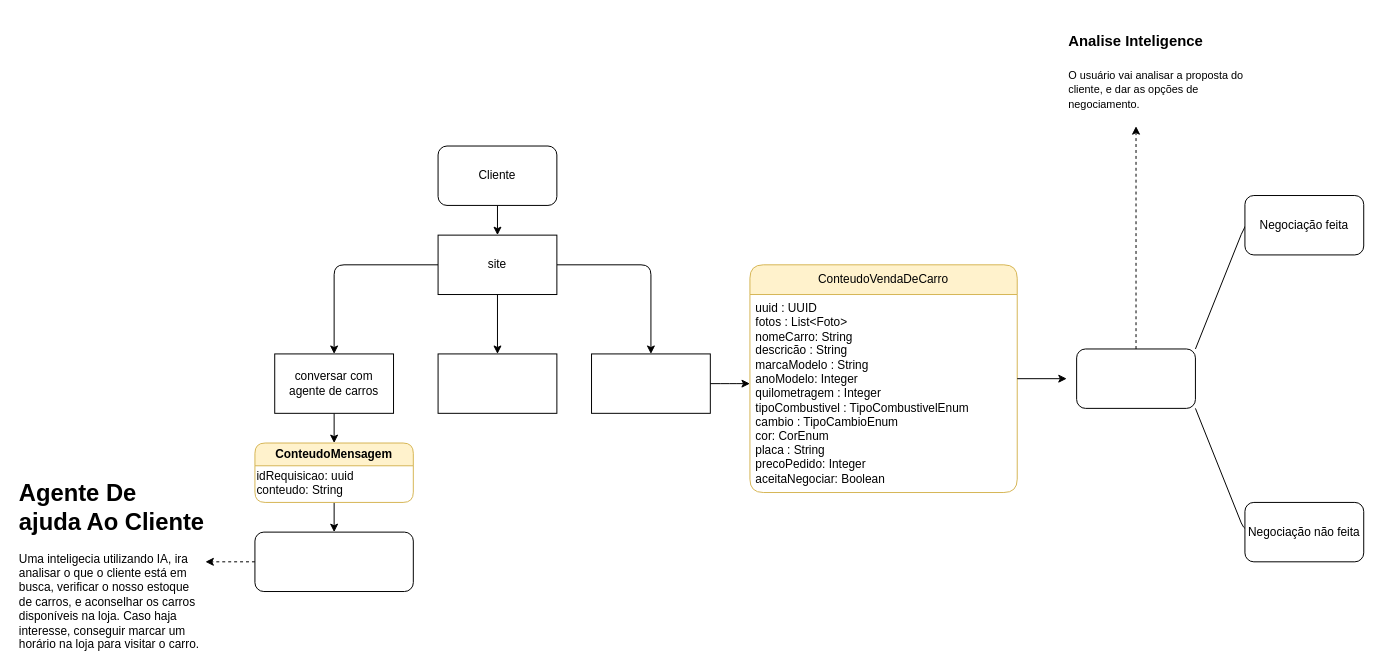
Image size: 1381x670. Some labels were removed from this diagram. Here are the shapes that lost their labels. From the top down, the centre of each, then its label:
At (x=497, y=383): "Lista de carros disponiveis".
At (x=650, y=383): "quero vender meu carro".
At (x=1135, y=378): "Analise Inteligence".
At (x=333, y=561): "agente de ajuda ao cliente".
